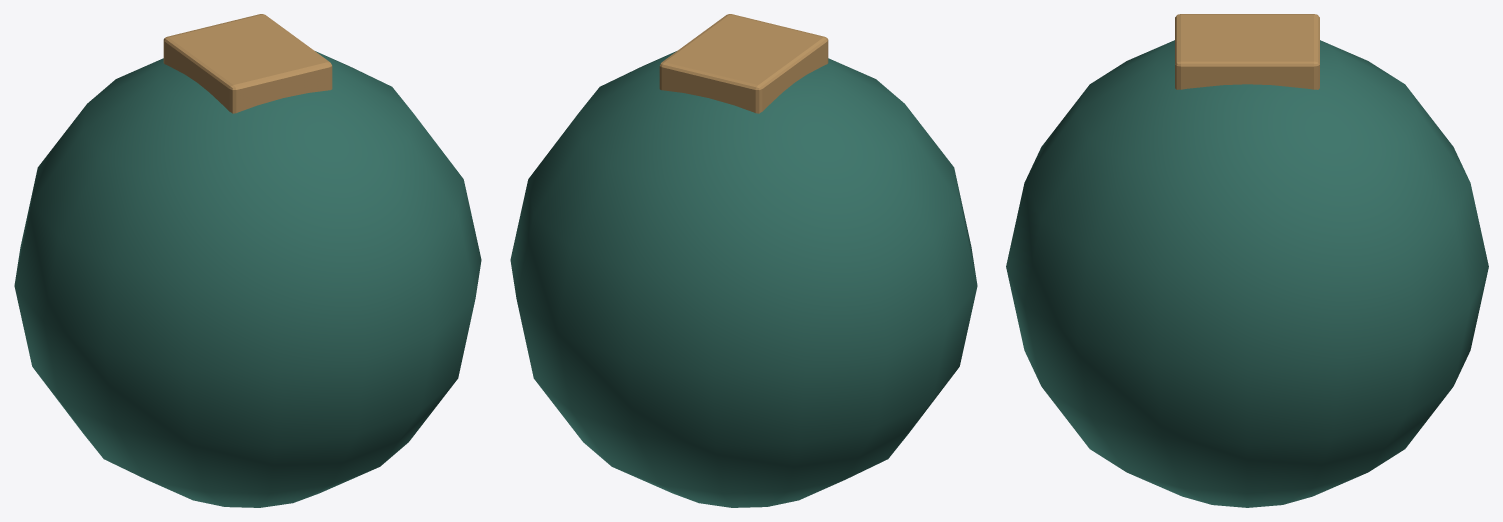
Rendered from SM_Keeper_Sobek_Tail1.fbx.
3 views of the same model, side by side, from view 1: azimuth 30°, elevation 25°; view 2: azimuth 150°, elevation 25°; view 3: azimuth 270°, elevation 25° (orthographic). The views are drawn at different scales.
Parts seen in each view (by area): view 1: SM_Keeper_Sobek_Tail1; view 2: SM_Keeper_Sobek_Tail1; view 3: SM_Keeper_Sobek_Tail1.
Boxes of the visible parts, box(x1,y1,x2,y2) form: SM_Keeper_Sobek_Tail1: box(14, 14, 481, 507); SM_Keeper_Sobek_Tail1: box(510, 14, 977, 507); SM_Keeper_Sobek_Tail1: box(1006, 14, 1488, 507).
Bounding box in the file's own units: 2 × 2.05 × 2.
